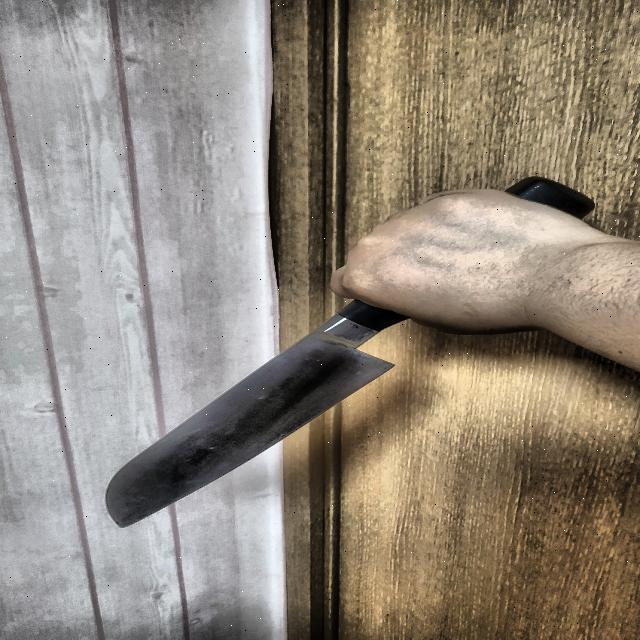knife: (110, 176, 593, 526)
